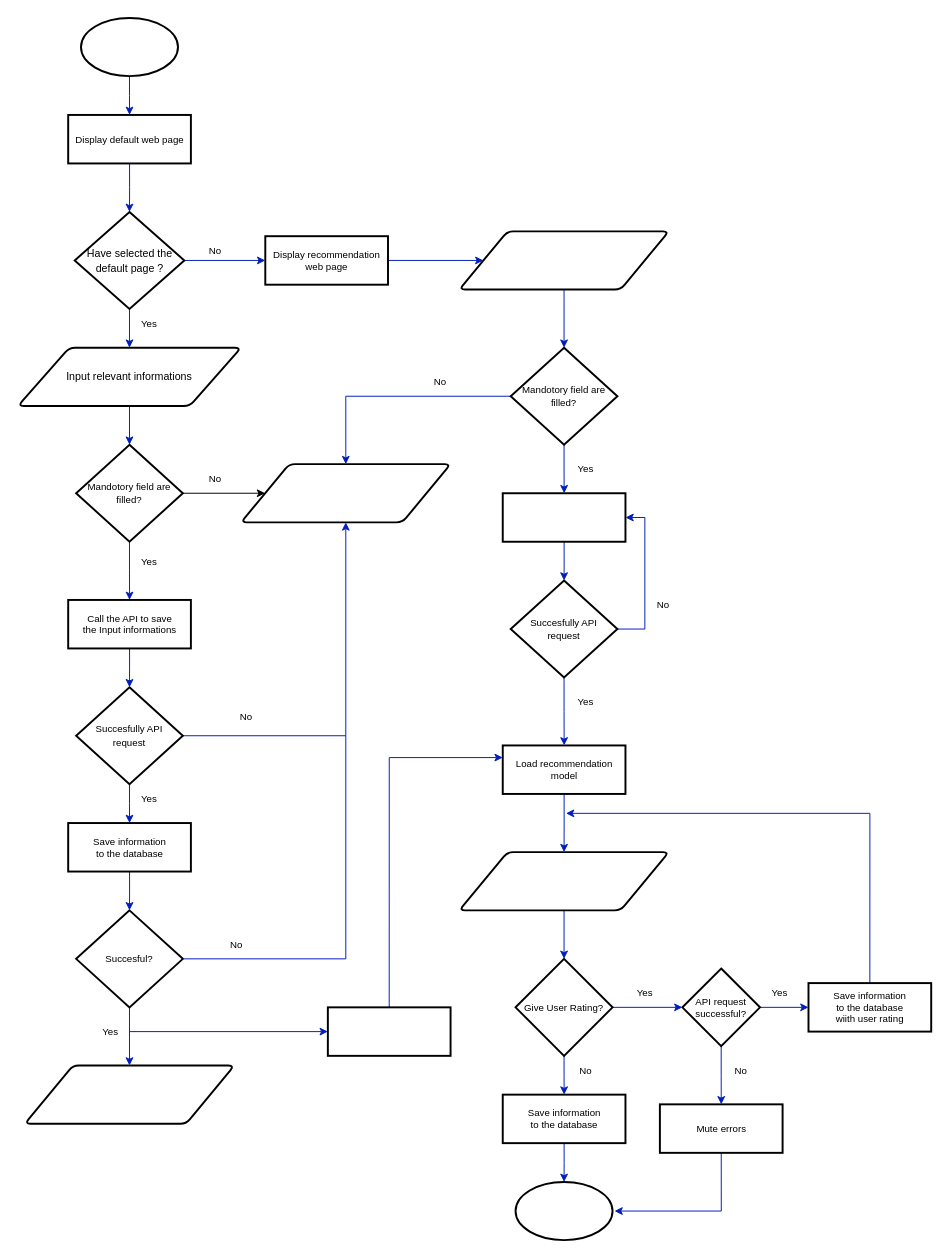
This 949x1257 diagram has some shape labels left out. Here are the shapes that lost their labels. From the top down, the centre of each, then its label:
(129,46): Start
(563,260): Input Parameters for recommendation
(345,493): Display Validation error message
(563,517): Call the API for recommendation
(563,881): Display Recommended Salary details
(388,1031): Pre-process the data
(129,1094): Display success message
(563,1210): END
